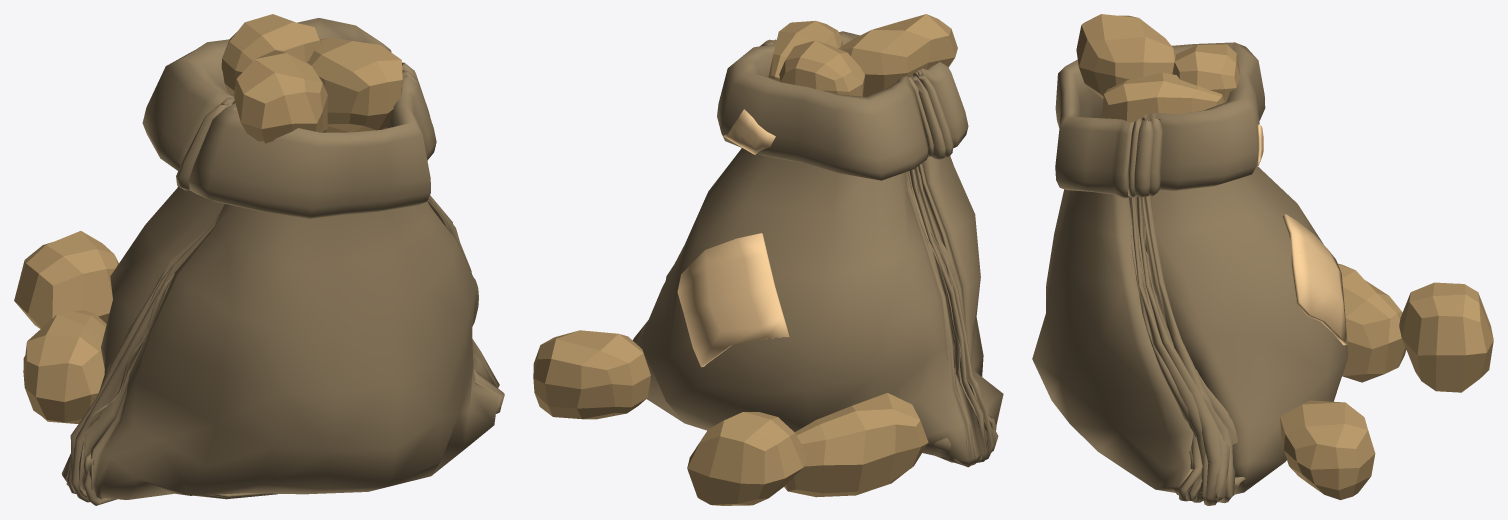
File: potatoBagAFull_LP.fbx
3 views of the same model, side by side, from view 1: azimuth 30°, elevation 25°; view 2: azimuth 150°, elevation 25°; view 3: azimuth 270°, elevation 25° (orthographic). The views are drawn at different scales.
Visible parts, largest first — view 1: PotatoBag_LP, PotatoB.003_LP, PutatoA.003_LP, PotatoB.002_LP, PotatoB.001_LP, PotatoA.001_LP; view 2: PotatoBag_LP, PotatoB.003_LP, PatchBig.002_LP, PutatoA.004_LP, PutatoA.003_LP, PotatoB.001_LP, PotatoA.001_LP, PotatoB.002_LP, PatchSmall.001_LP; view 3: PotatoBag_LP, PutatoA.003_LP, PutatoA.004_LP, PotatoB.001_LP, PotatoB.003_LP, PatchBig.002_LP, PotatoB.002_LP, PotatoA.001_LP.
Part boxes in pixels (bbox=[...]): PotatoBag_LP: bbox=[61, 18, 504, 505]; PotatoB.003_LP: bbox=[23, 310, 106, 423]; PutatoA.003_LP: bbox=[14, 231, 118, 328]; PotatoB.002_LP: bbox=[308, 37, 402, 132]; PotatoB.001_LP: bbox=[233, 50, 327, 143]; PotatoA.001_LP: bbox=[221, 14, 322, 96]; PotatoBag_LP: bbox=[632, 31, 1003, 467]; PotatoB.003_LP: bbox=[784, 393, 928, 497]; PatchBig.002_LP: bbox=[677, 233, 790, 367]; PutatoA.004_LP: bbox=[533, 330, 650, 419]; PutatoA.003_LP: bbox=[687, 412, 807, 505]; PotatoB.001_LP: bbox=[838, 14, 957, 96]; PotatoA.001_LP: bbox=[779, 40, 864, 96]; PotatoB.002_LP: bbox=[768, 20, 842, 81]; PatchSmall.001_LP: bbox=[723, 109, 775, 154]; PotatoBag_LP: bbox=[1032, 42, 1348, 505]; PutatoA.003_LP: bbox=[1399, 282, 1493, 392]; PutatoA.004_LP: bbox=[1280, 400, 1375, 499]; PotatoB.001_LP: bbox=[1076, 14, 1176, 98]; PotatoB.003_LP: bbox=[1338, 263, 1406, 382]; PatchBig.002_LP: bbox=[1282, 214, 1347, 345]; PotatoB.002_LP: bbox=[1102, 72, 1224, 122]; PotatoA.001_LP: bbox=[1172, 44, 1240, 102].
Bounding box in the file's own units: 203 × 198 × 209.
